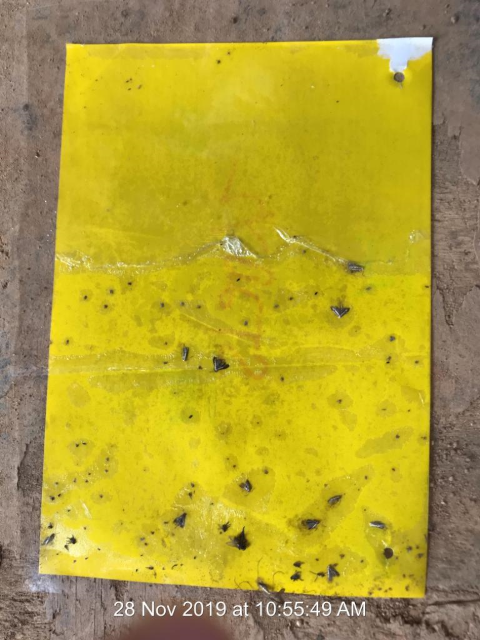DBM: (322, 561, 343, 584), (209, 354, 230, 375), (366, 515, 389, 534), (328, 303, 353, 320), (169, 509, 189, 530), (345, 258, 368, 276), (298, 515, 321, 531), (235, 477, 255, 495), (256, 578, 274, 596), (41, 531, 58, 549), (325, 492, 345, 507), (179, 344, 192, 365)
